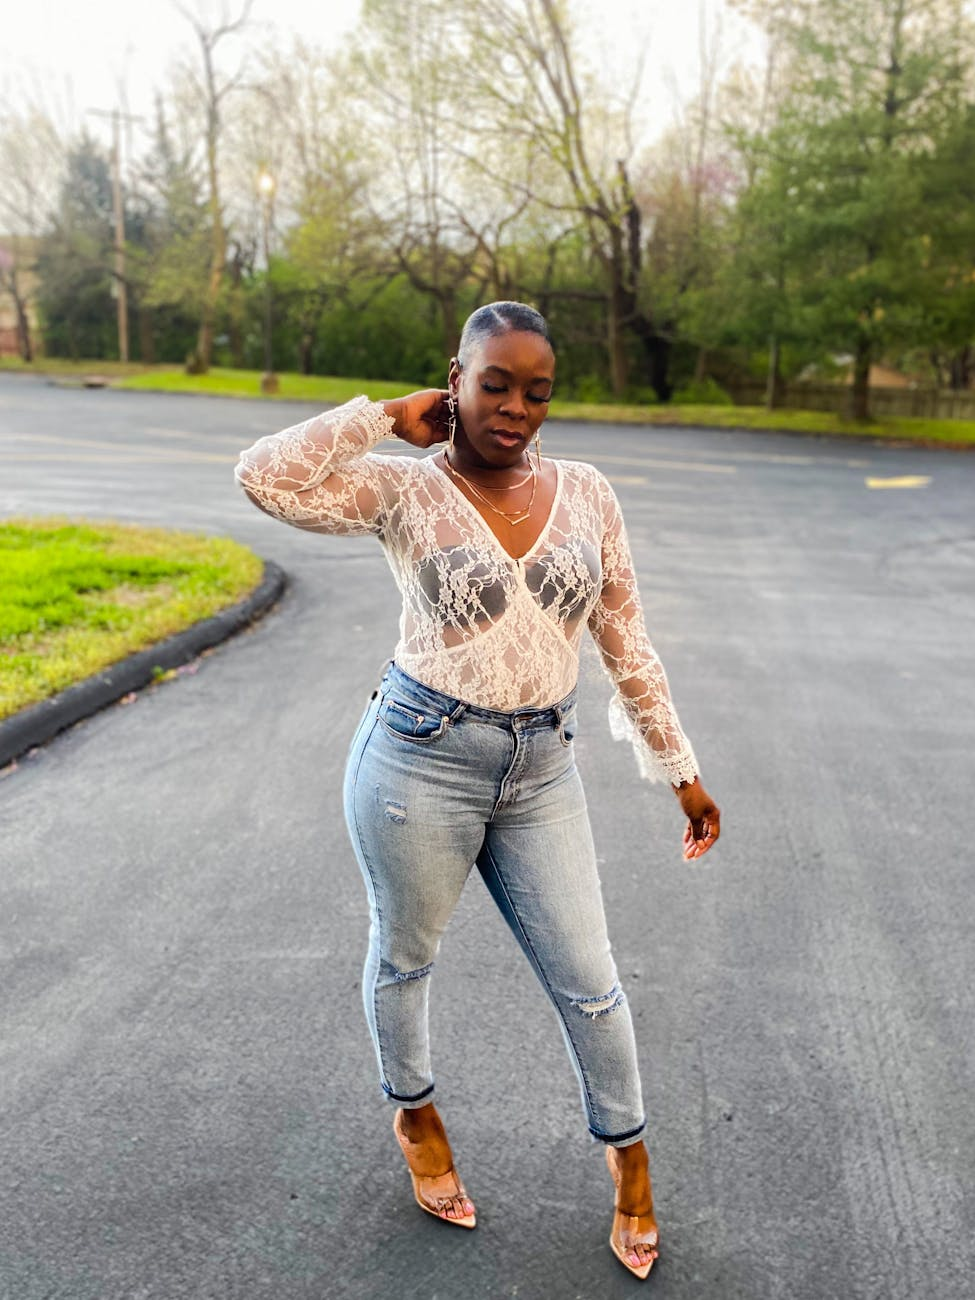crop_top: (395, 544, 610, 638)
opened_foot: (381, 1118, 487, 1228), (595, 1154, 673, 1273)
ripped_jeans: (337, 693, 641, 1137)
transparent_top: (358, 457, 652, 701)
